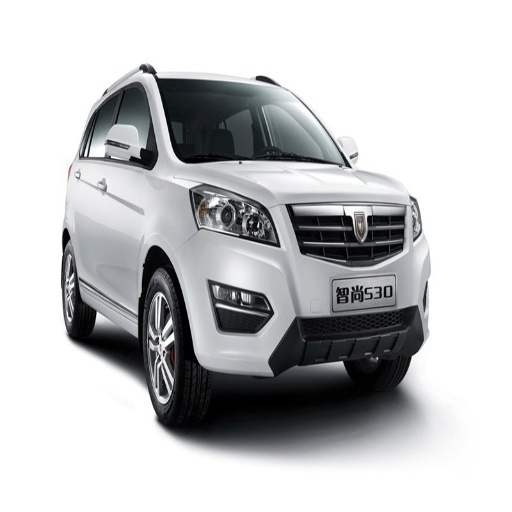front_bumper: (175, 201, 432, 376)
front_right_door: (97, 74, 160, 308)
front_right_light: (190, 184, 280, 245)
hood: (192, 160, 409, 204)
